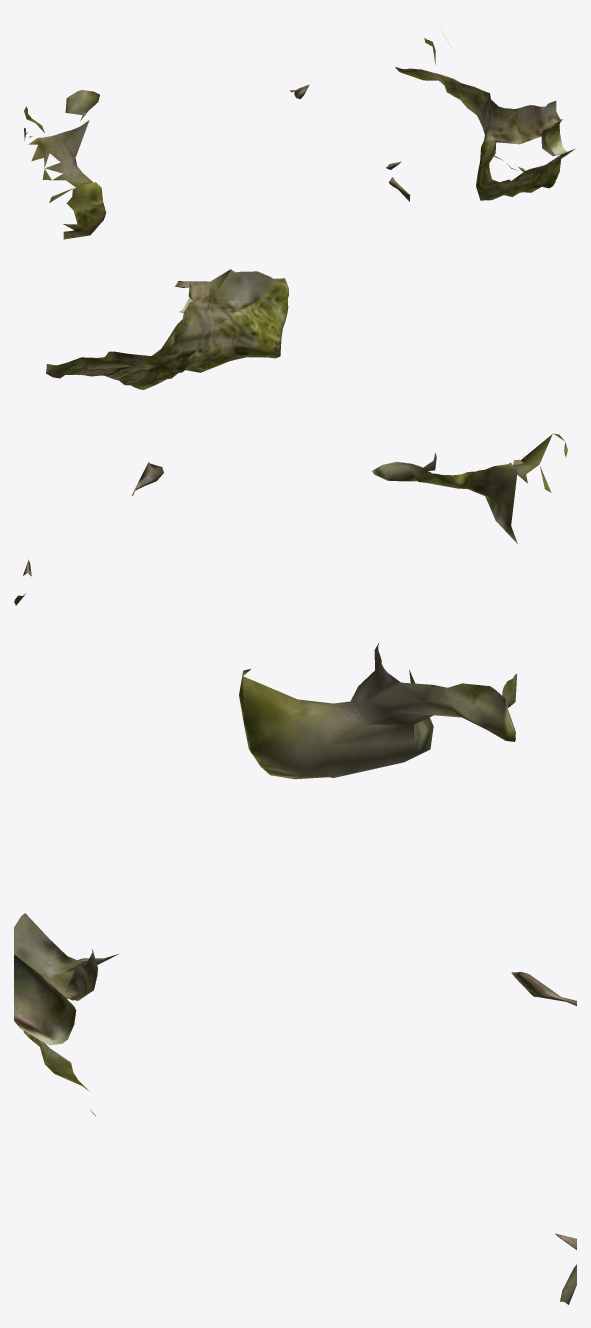
3 renders of one model, top to bottom at view 1: azimuth 30°, elevation 25°; view 2: azimuth 150°, elevation 25°; view 3: azimuth 270°, elevation 25°, orthographic. The views are drawn at different scales.
Bounding box in the file's own units: 3.83 × 1.74 × 2.62.
1 material, 1 textured.
